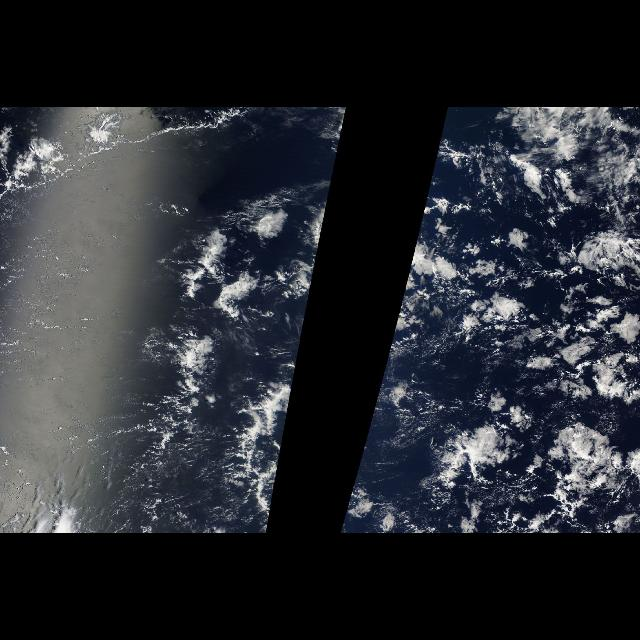Flower: (381, 109, 639, 531), (140, 187, 332, 379)
